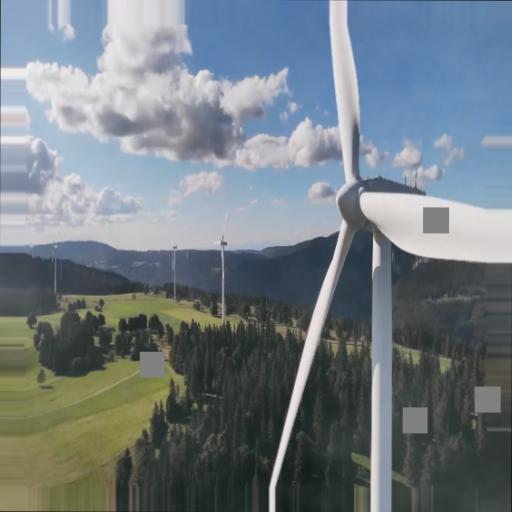wind turbine: (268, 7, 512, 488), (207, 206, 234, 315)
